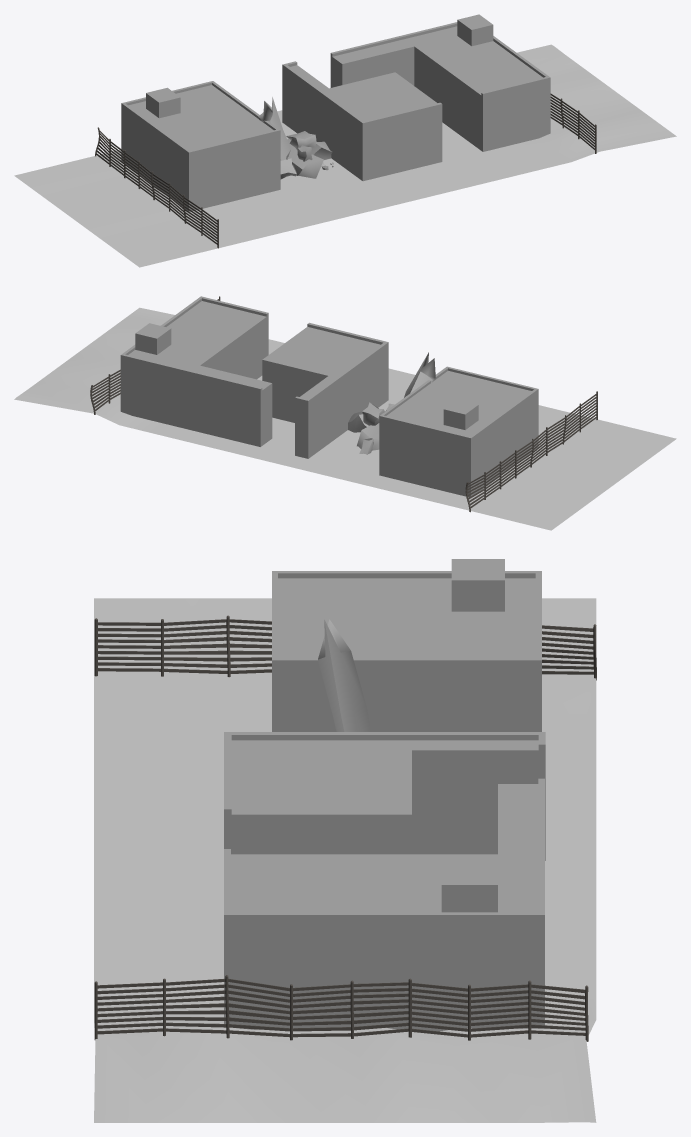
File: apartment_pathway_build.fbx
The picture shows the model from 3 angles, top to bottom: view 1: azimuth 30°, elevation 25°; view 2: azimuth 150°, elevation 25°; view 3: azimuth 270°, elevation 25°; orthographic projection. The views are drawn at different scales.
Visible parts, largest first — view 1: apartment_block, generic_apartment_3, generic_apartment_2, metal_fence48, rubble_2; view 2: generic_apartment_3, apartment_block, generic_apartment_2, metal_fence48, rubble_2; view 3: apartment_block, generic_apartment_3, generic_apartment_2, metal_fence48, rubble_2.
Boxes of the visible parts, box(x1,y1,x2,y2) form: apartment_block: box(14, 44, 676, 267); generic_apartment_3: box(282, 14, 550, 181); generic_apartment_2: box(121, 81, 280, 211); metal_fence48: box(95, 93, 596, 248); rubble_2: box(258, 97, 333, 179); generic_apartment_3: box(120, 296, 388, 458); apartment_block: box(14, 307, 676, 530); generic_apartment_2: box(379, 366, 538, 496); metal_fence48: box(90, 296, 597, 512); rubble_2: box(348, 352, 435, 454); apartment_block: box(94, 598, 596, 1122); generic_apartment_3: box(224, 732, 545, 1031); generic_apartment_2: box(272, 559, 541, 731); metal_fence48: box(94, 615, 596, 1041); rubble_2: box(318, 619, 371, 731).
Size of the model in its own units: 2100 by 374 by 851.
